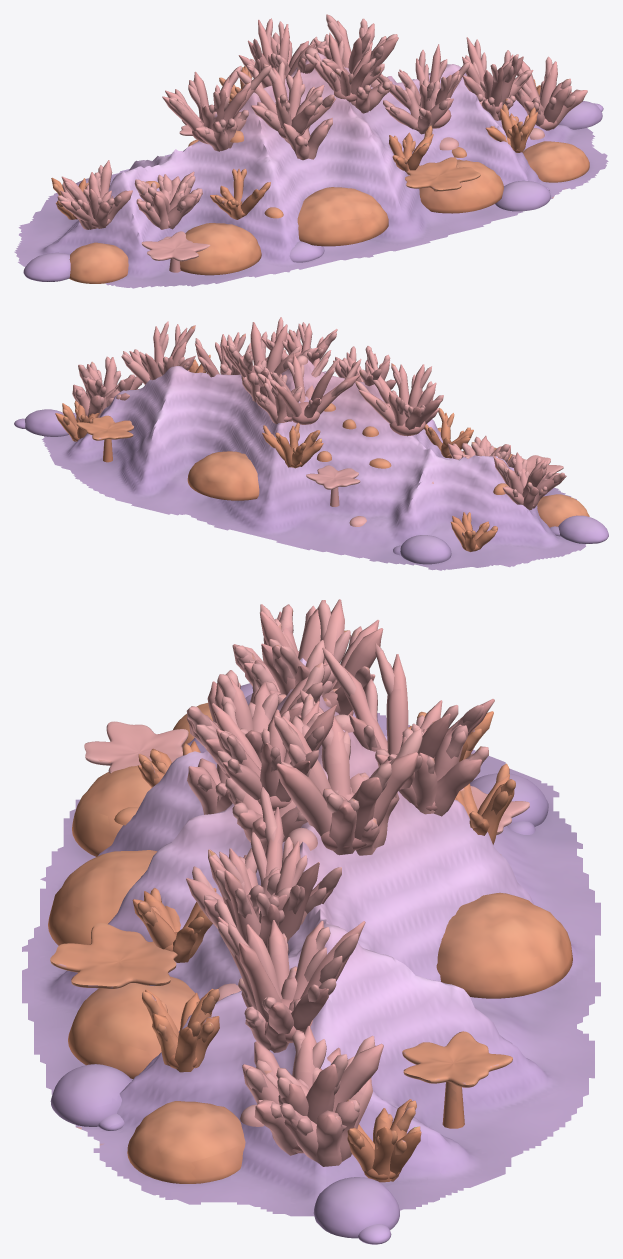
The model's file is CC_B04_CoralRidge.fbx.
3 views of the same model, one above another, from view 1: azimuth 30°, elevation 25°; view 2: azimuth 150°, elevation 25°; view 3: azimuth 270°, elevation 25° (orthographic). The views are drawn at different scales.
Visible parts, largest first — view 1: Coral_LOD0, Reef_LOD0, Rock_LOD0; view 2: Reef_LOD0, Coral_LOD0, Rock_LOD0; view 3: Coral_LOD0, Reef_LOD0, Rock_LOD0.
Boxes of the visible parts, x1,y1,x2,y2 form: Coral_LOD0: (51, 14, 589, 283); Reef_LOD0: (14, 52, 608, 288); Rock_LOD0: (23, 101, 603, 281); Reef_LOD0: (42, 358, 585, 570); Coral_LOD0: (55, 317, 589, 551); Rock_LOD0: (14, 409, 608, 564); Coral_LOD0: (48, 599, 572, 1183); Reef_LOD0: (22, 658, 600, 1216); Rock_LOD0: (50, 683, 548, 1244).
Size of what is drawn, in the model's own units: 36 by 9 by 16.
